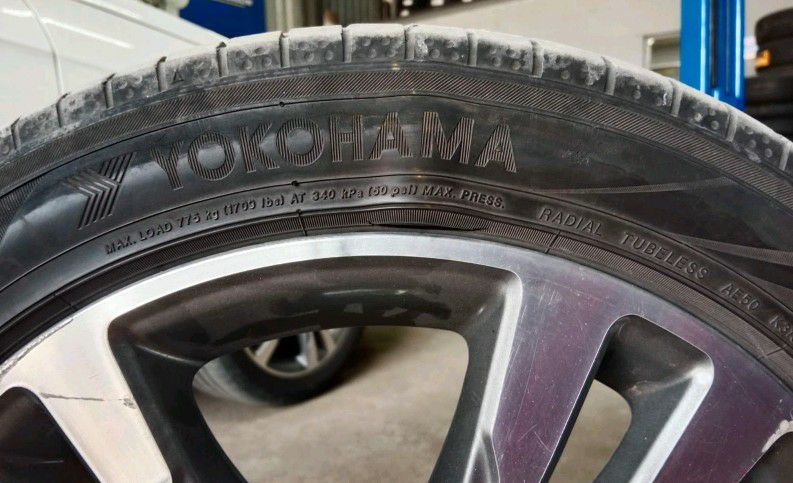CBU: (346, 103, 480, 226)
cut: (366, 220, 490, 233)
